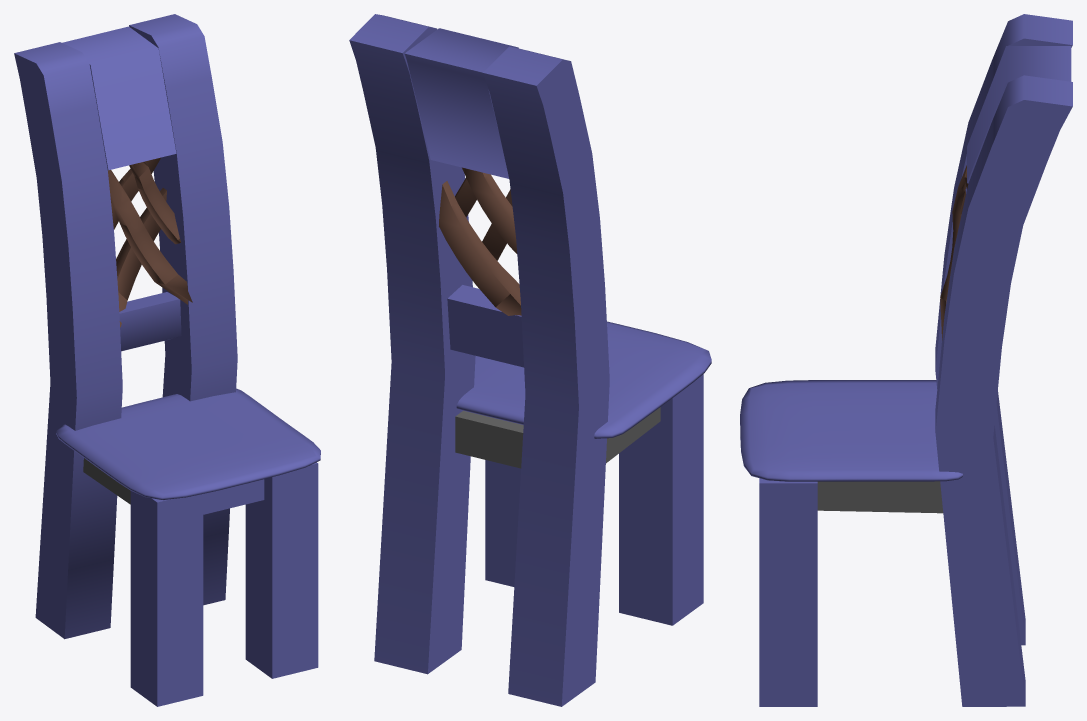
File: Chair.fbx
3 views of the same model, side by side, from view 1: azimuth 30°, elevation 25°; view 2: azimuth 150°, elevation 25°; view 3: azimuth 270°, elevation 25° (orthographic). The views are drawn at different scales.
Parts seen in each view (by area): view 1: Empty_Mesh; view 2: Empty_Mesh; view 3: Empty_Mesh.
Boxes of the visible parts, left/top/right/bottom form: Empty_Mesh: left=14, top=14, right=320, bottom=706; Empty_Mesh: left=349, top=14, right=711, bottom=706; Empty_Mesh: left=740, top=14, right=1072, bottom=706.
Bounding box in the file's own units: 103 × 295 × 147.
